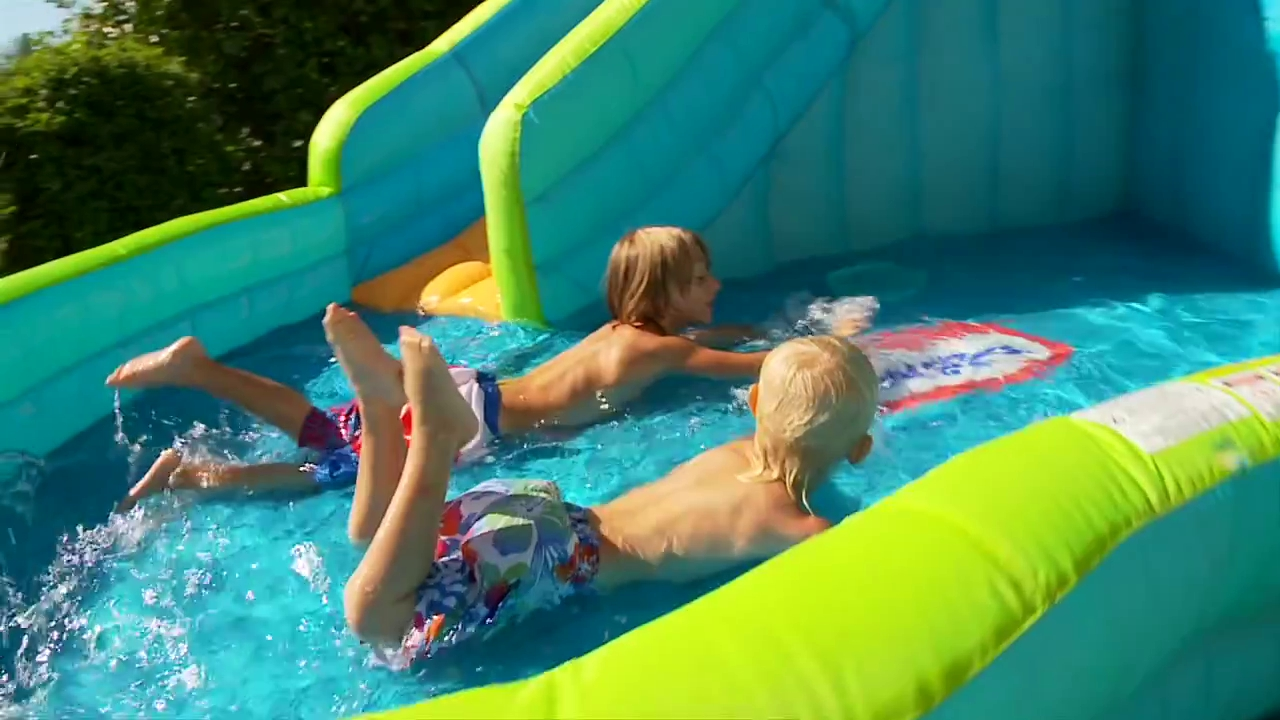person: (105, 227, 873, 514), (322, 303, 878, 672)
